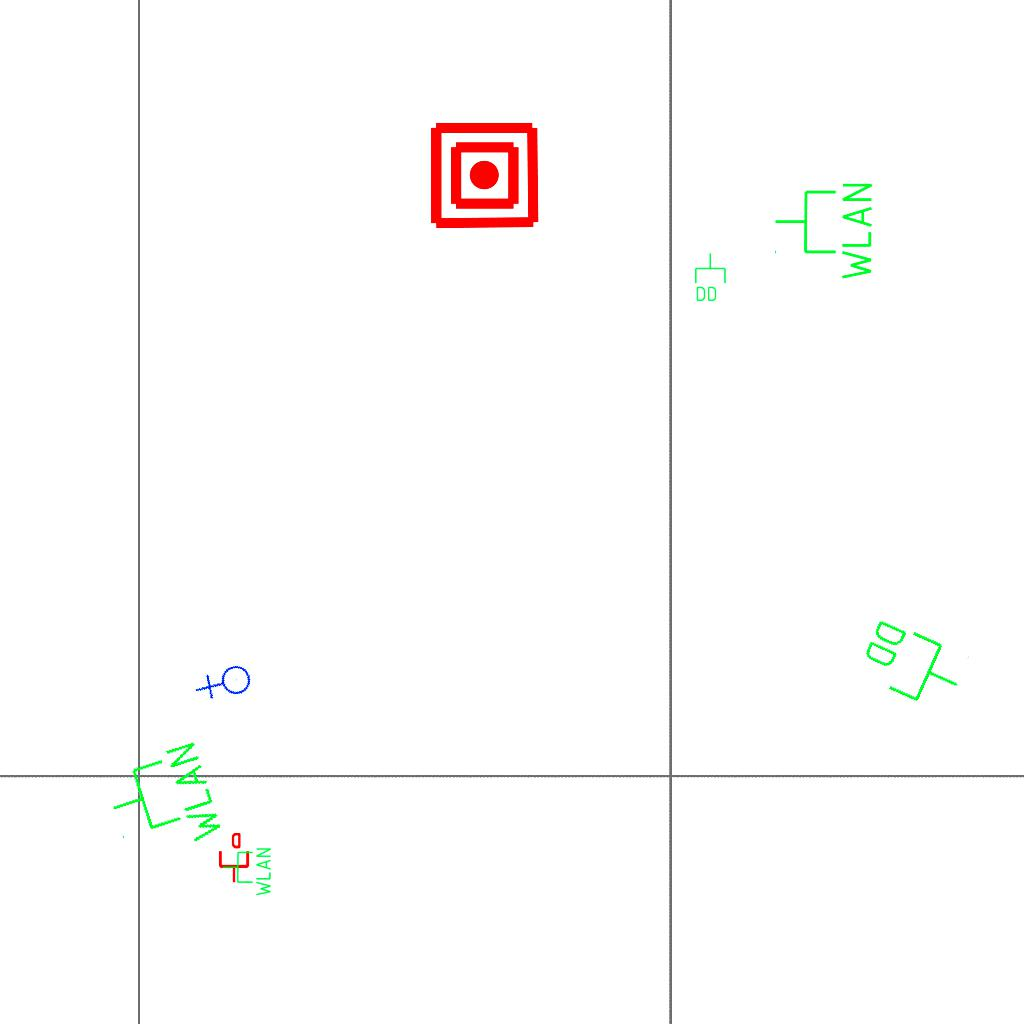Datenanschluss_einfach: (217, 833, 251, 883)
Datenanschluss_zweifach: (851, 612, 974, 717), (693, 252, 727, 303)
Elektroanschluss_allgemein_230V_Geraeteanschlussdose_230V: (193, 651, 260, 718)
NAM-Nichtautomatischer_Melder: (428, 119, 541, 232)
WLAN: (97, 736, 229, 869), (772, 179, 876, 284), (221, 846, 273, 898)
